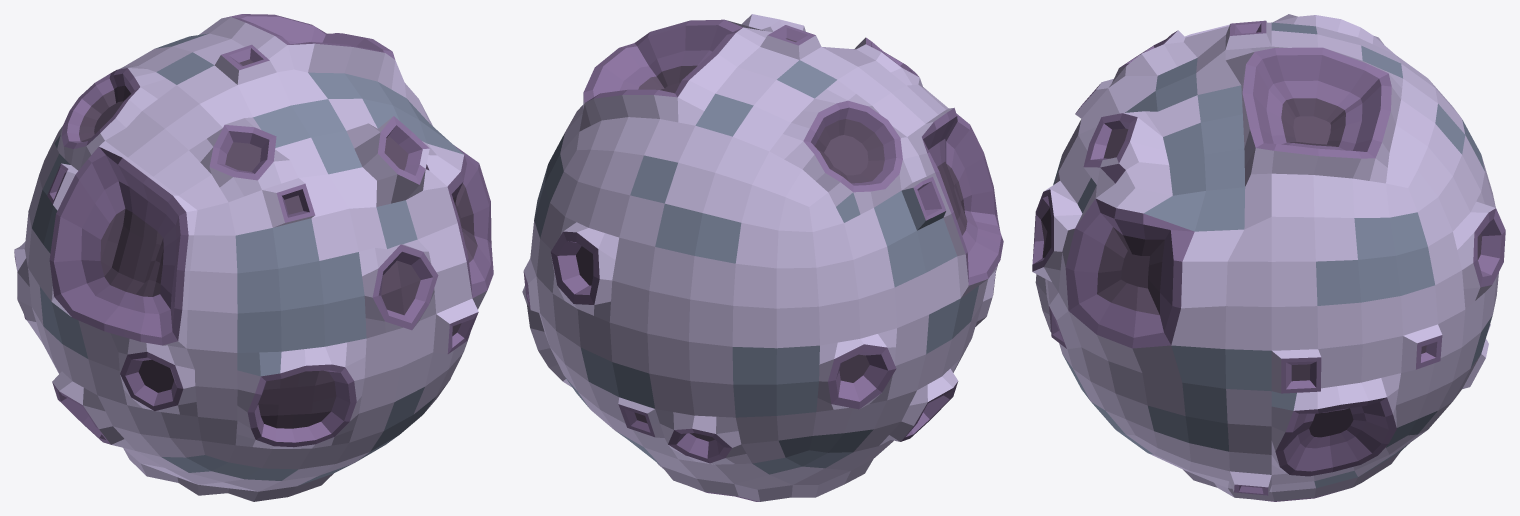
The model's file is Moon.fbx.
The picture shows the model from 3 angles, left to right: view 1: azimuth 30°, elevation 25°; view 2: azimuth 150°, elevation 25°; view 3: azimuth 270°, elevation 25°; orthographic projection.
Parts seen in each view (by area): view 1: Cube.002; view 2: Cube.002; view 3: Cube.002.
Boxes of the visible parts, left/top/right/bottom form: Cube.002: left=14, top=14, right=493, bottom=501; Cube.002: left=522, top=14, right=1003, bottom=501; Cube.002: left=1032, top=14, right=1505, bottom=501.
Size of the model in its own units: 175 by 177 by 174.
